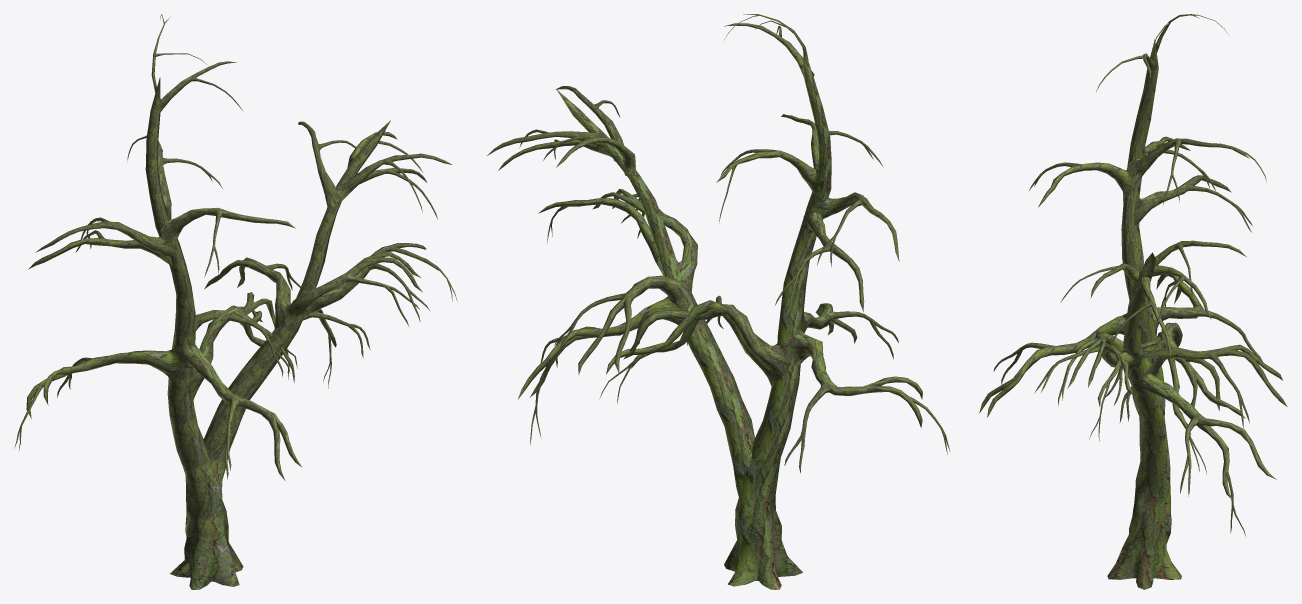
Rendered from willow trunk.fbx.
3 renders of one model, left to right at view 1: azimuth 30°, elevation 25°; view 2: azimuth 150°, elevation 25°; view 3: azimuth 270°, elevation 25°, orthographic. The views are drawn at different scales.
Visible parts, largest first — view 1: mossybark04_0; view 2: mossybark04_0; view 3: mossybark04_0.
Part boxes in pixels (x1,y1,x2,y2): mossybark04_0: (14, 14, 457, 589); mossybark04_0: (487, 14, 950, 589); mossybark04_0: (979, 14, 1287, 589).
Bounding box in the file's own units: 778 × 969 × 494.
1 material, 1 textured.
